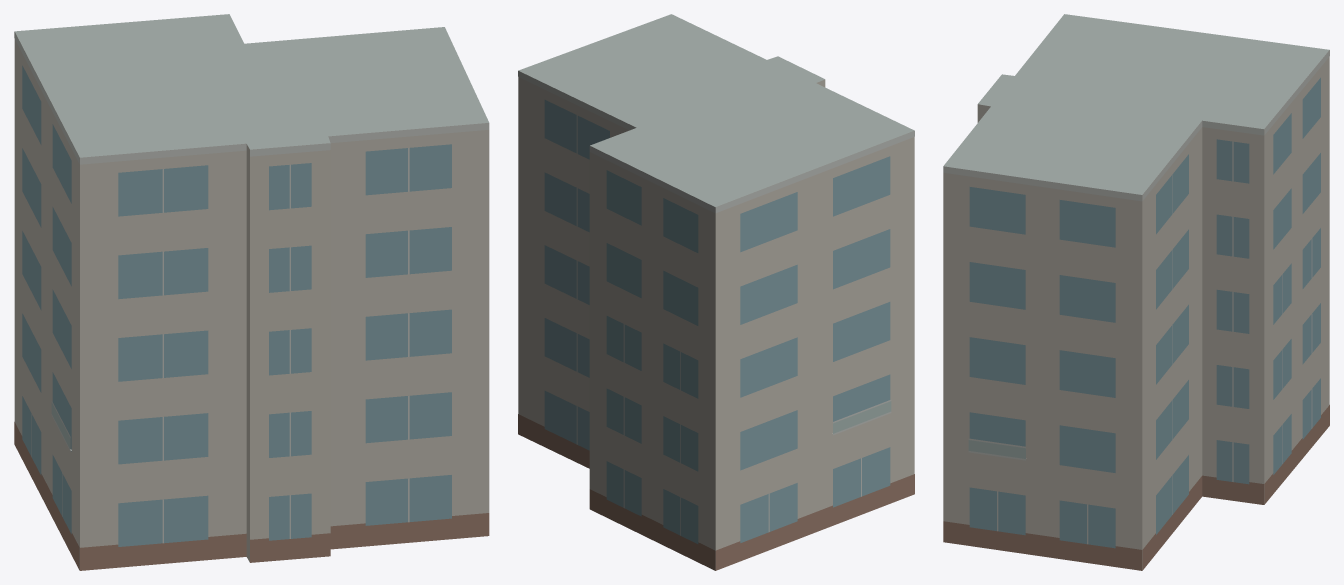
File: survey-upis-32539720.glb
3 views of the same model, side by side, from view 1: azimuth 30°, elevation 25°; view 2: azimuth 150°, elevation 25°; view 3: azimuth 270°, elevation 25° (orthographic). The views are drawn at different scales.
Parts seen in each view (by area): view 1: survey-upis-32539720.tmp; view 2: survey-upis-32539720.tmp; view 3: survey-upis-32539720.tmp.
Boxes of the visible parts, left/top/right/bottom form: survey-upis-32539720.tmp: left=14, top=14, right=489, bottom=570; survey-upis-32539720.tmp: left=518, top=14, right=914, bottom=570; survey-upis-32539720.tmp: left=943, top=14, right=1329, bottom=570.
Size of the model in its own units: 14.89 by 14.4 by 13.43.
